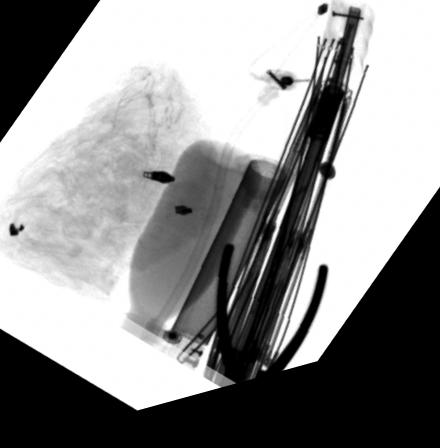Pliers: (213, 254, 330, 400)
